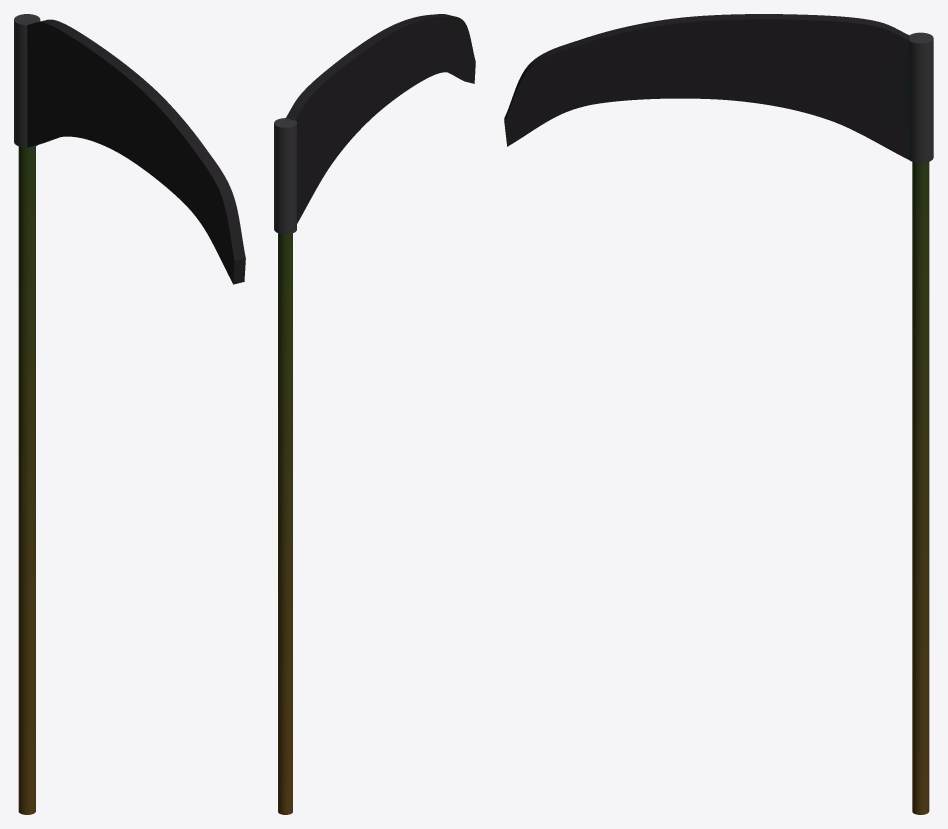
3 renders of one model, left to right at view 1: azimuth 30°, elevation 25°; view 2: azimuth 150°, elevation 25°; view 3: azimuth 270°, elevation 25°, orthographic. The views are drawn at different scales.
Visible parts, largest first — view 1: blade, shaft, sleeve; view 2: blade, shaft, sleeve; view 3: blade, shaft, sleeve.
Boxes of the visible parts, x1,y1,x2,y2 form: blade: (27,19,245,284); shaft: (18,146,35,814); sleeve: (14,14,40,147); blade: (286,14,475,223); shaft: (278,233,292,814); sleeve: (274,118,296,234); blade: (504,14,909,159); shaft: (912,162,929,814); sleeve: (909,32,933,162).
Size of the model in its own units: 0.0469 by 1.6 by 0.7835.
